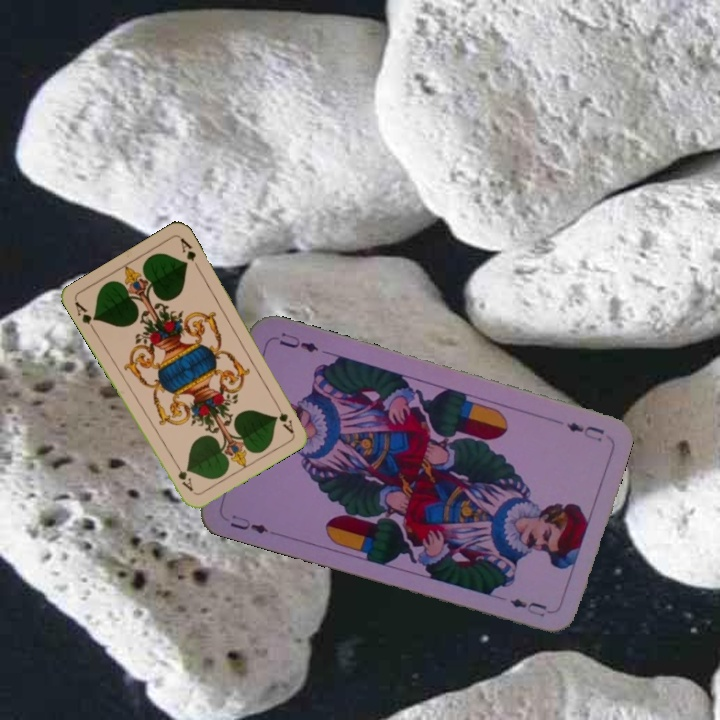EU: (226, 510, 271, 537), (562, 418, 607, 444)
GA: (71, 298, 99, 334), (271, 398, 296, 435)
